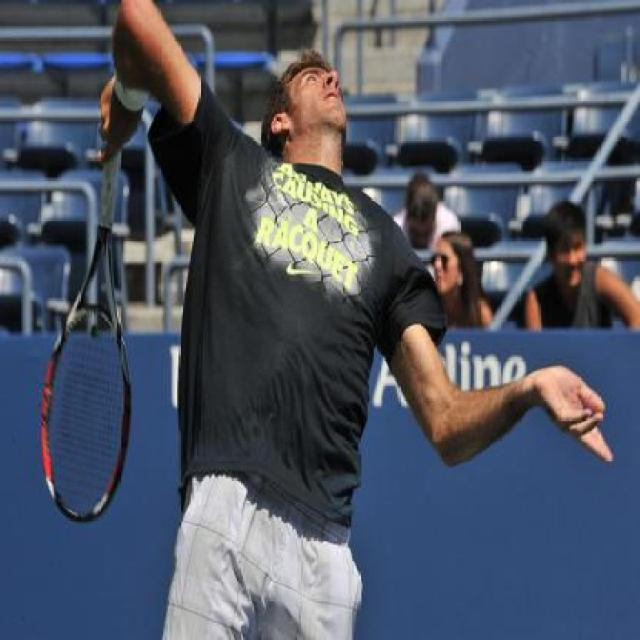Person: (96, 0, 618, 631), (527, 198, 639, 334), (393, 174, 461, 272), (432, 230, 493, 332)
